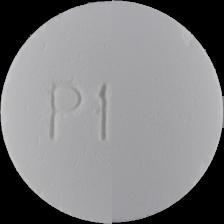0574-0113: (0, 0, 224, 224)
